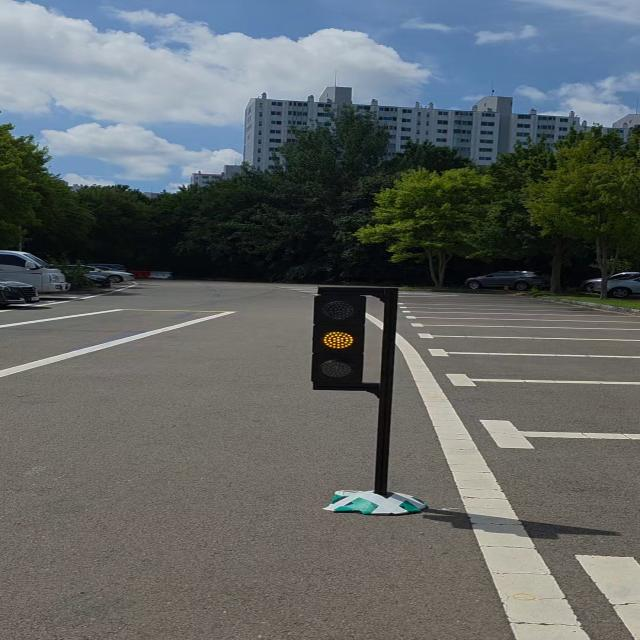yellow: (308, 293, 371, 392)
